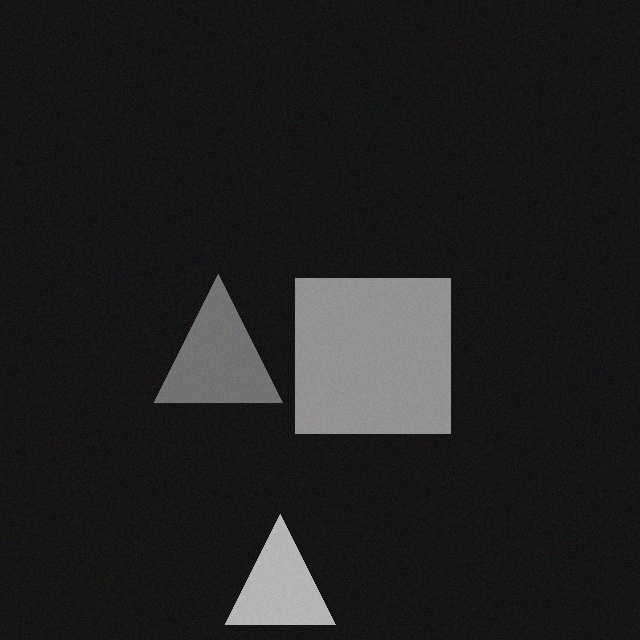square: (287, 275, 442, 430)
triangle: (146, 271, 274, 399), (217, 511, 327, 621)
